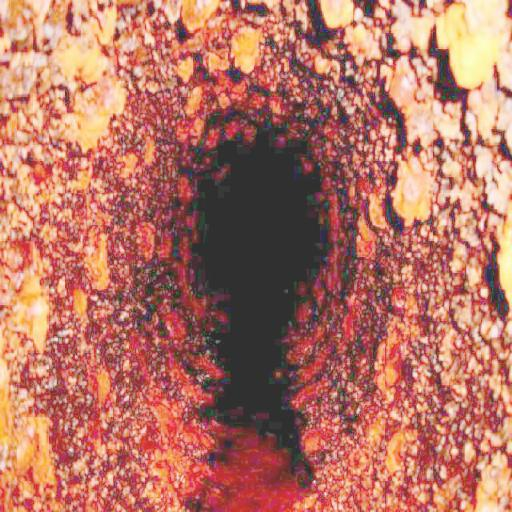corrosion: (6, 4, 188, 512), (352, 14, 512, 358)
